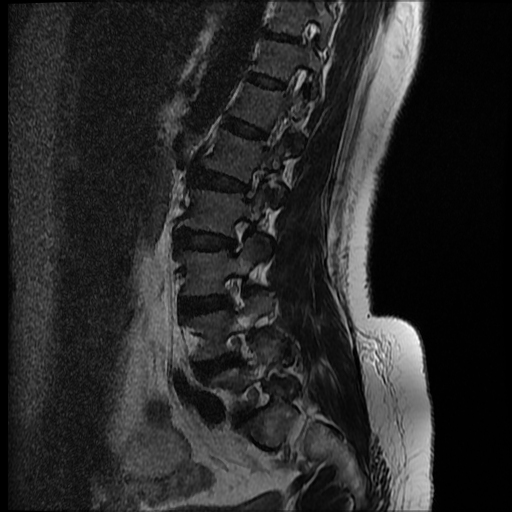LFS0: (215, 267, 256, 317), (220, 209, 256, 263), (232, 161, 270, 205)
